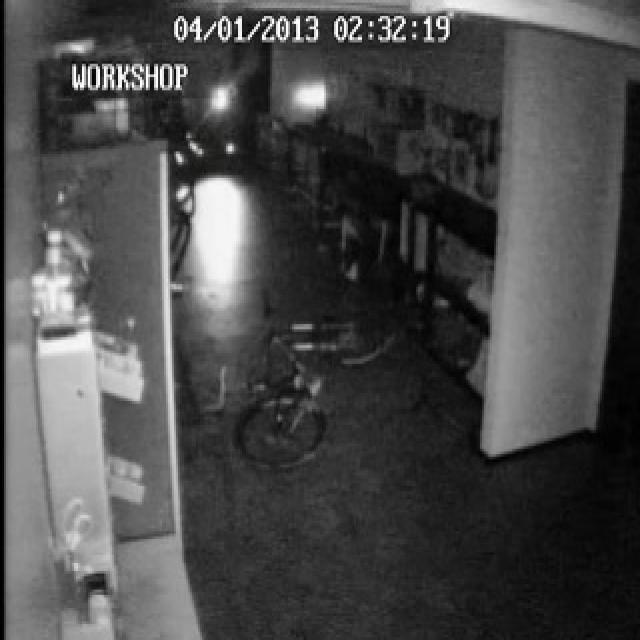burglary: (201, 277, 394, 481)
